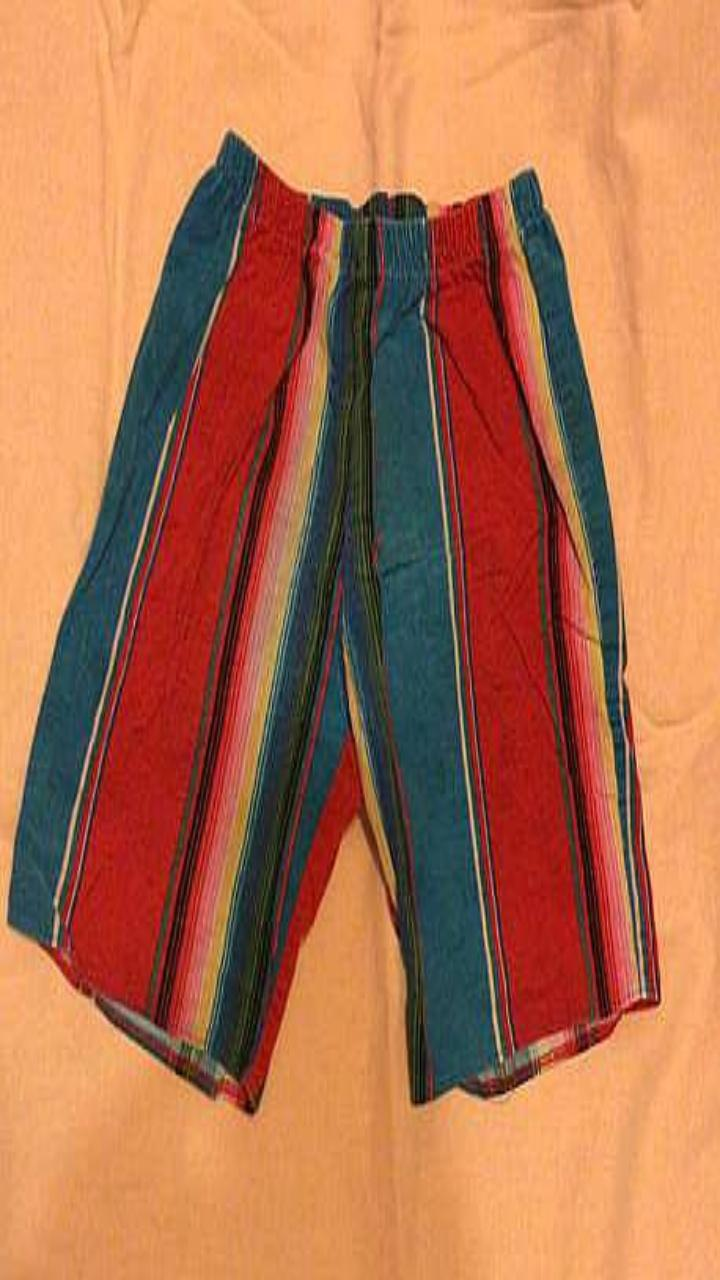Shorts: (8, 131, 659, 1112)
